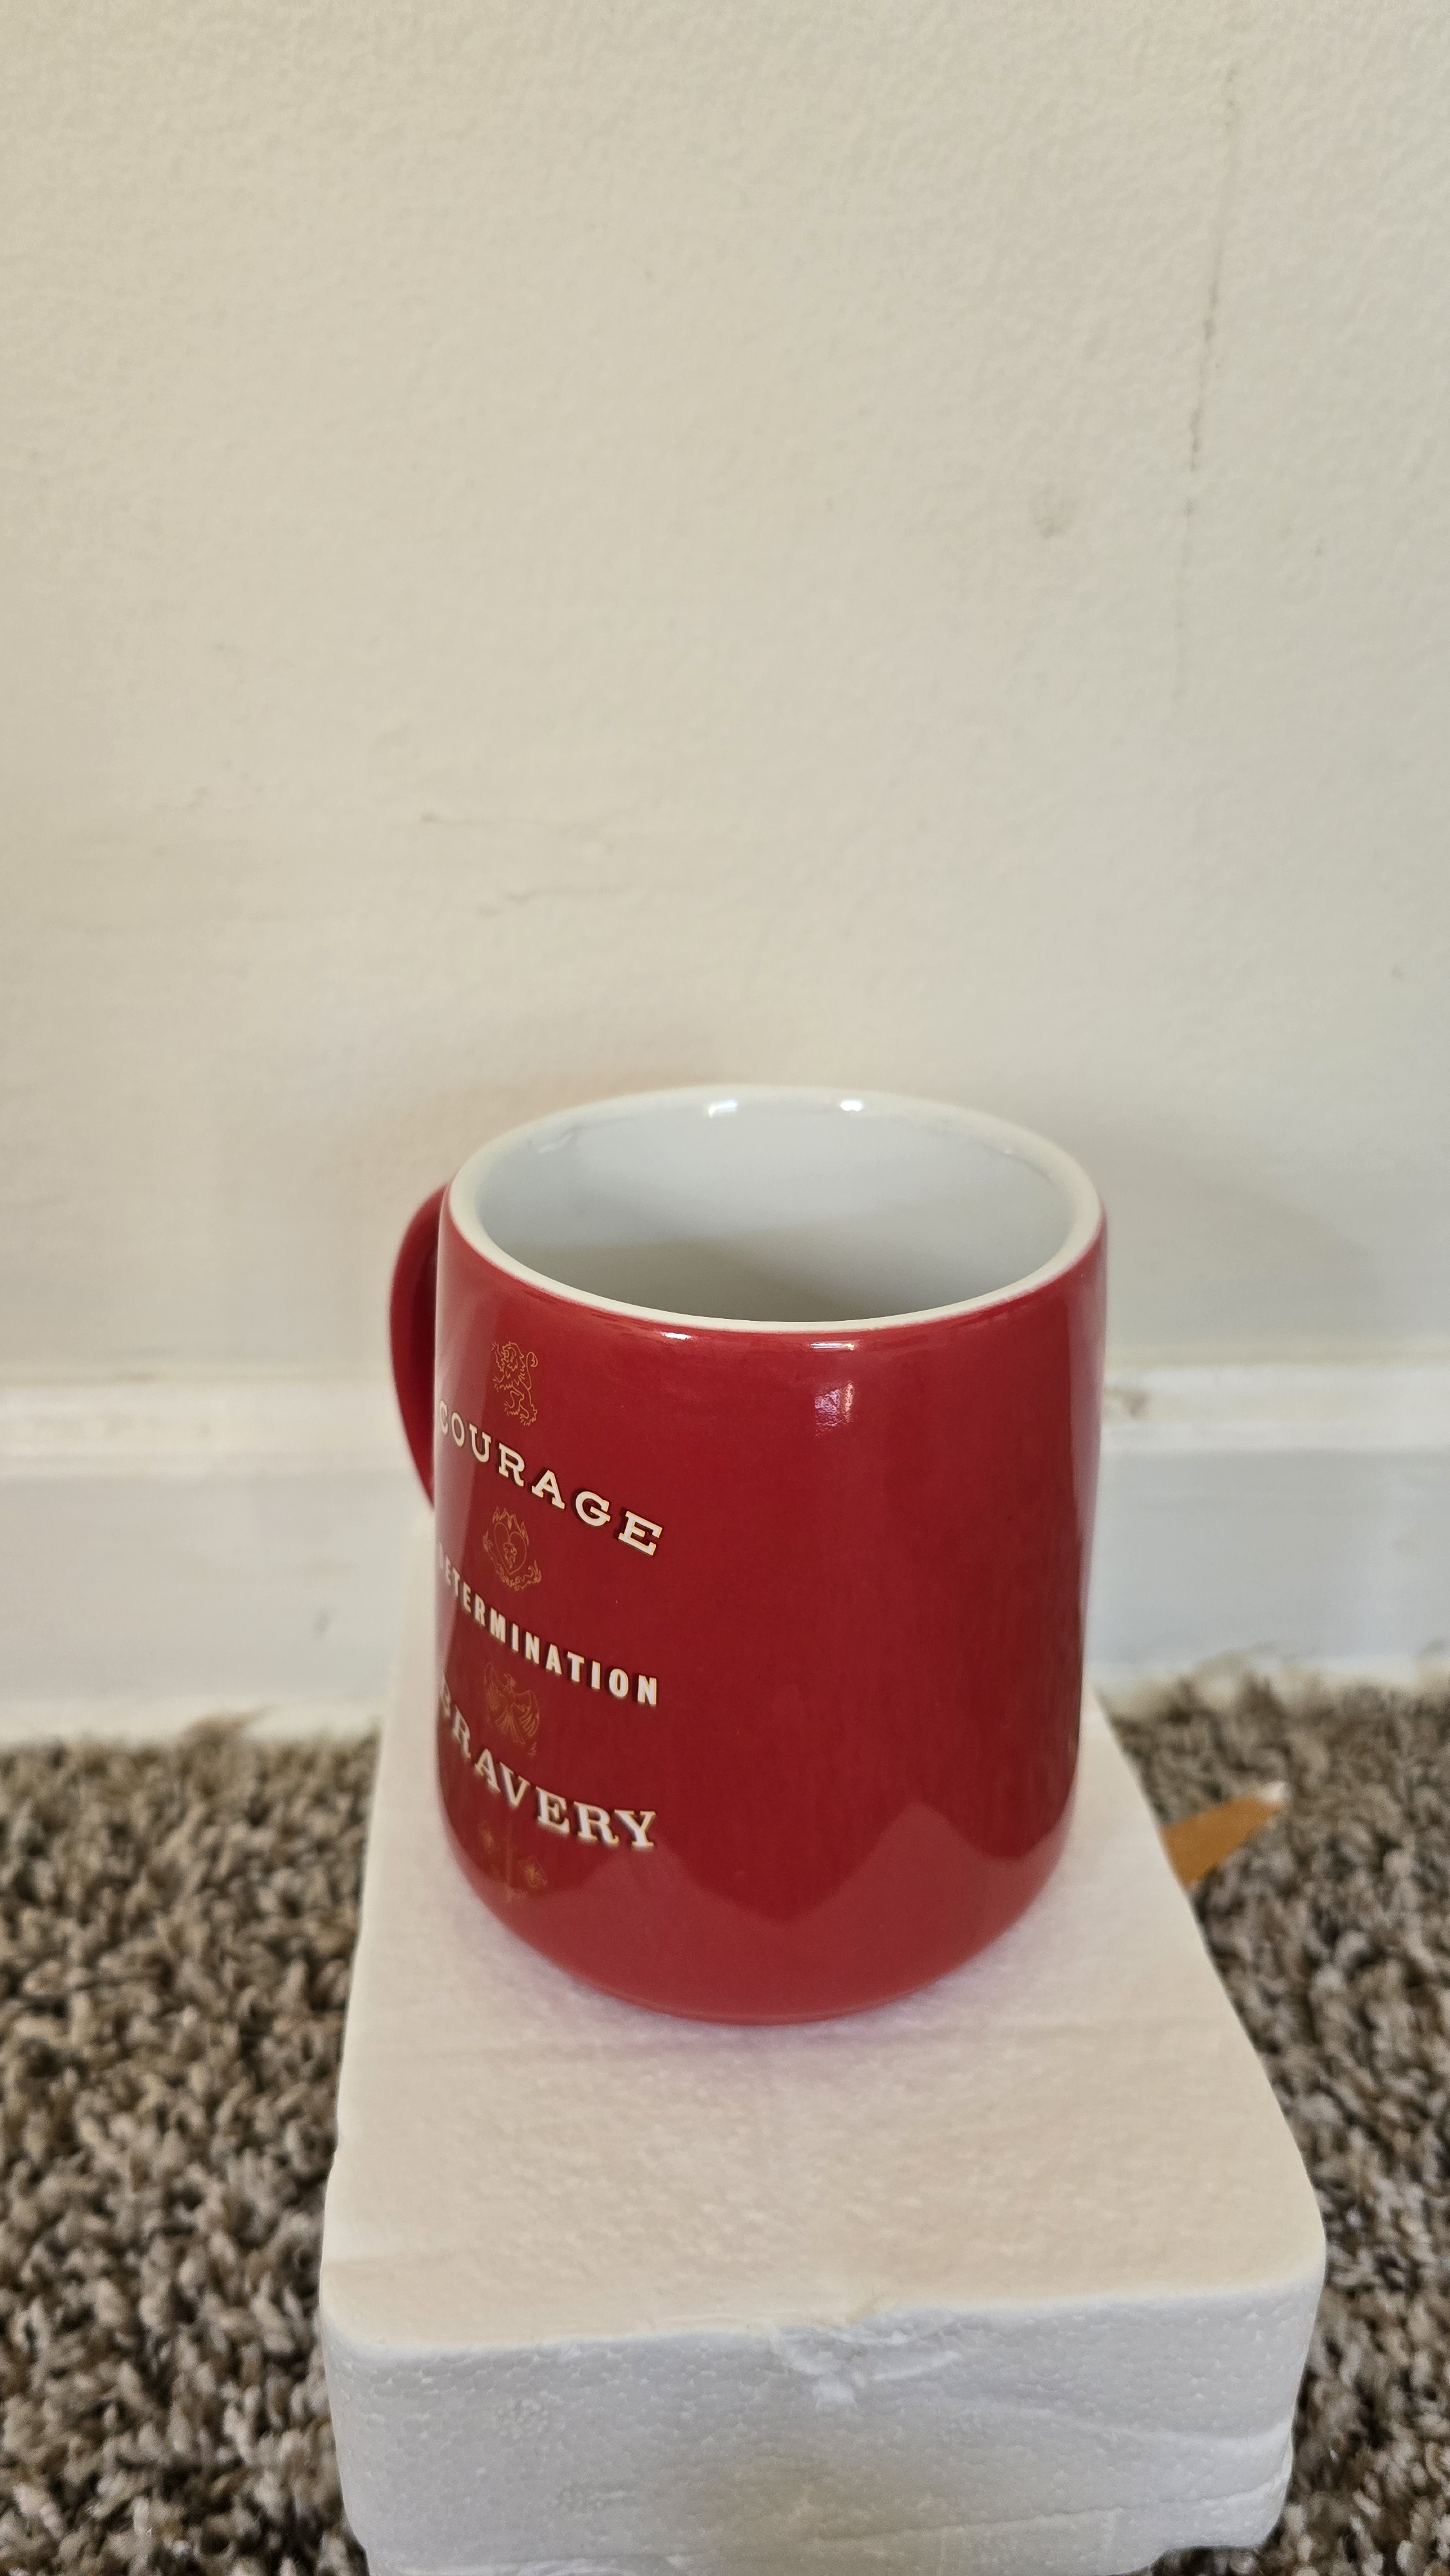mug: (334, 1033, 1254, 2061)
